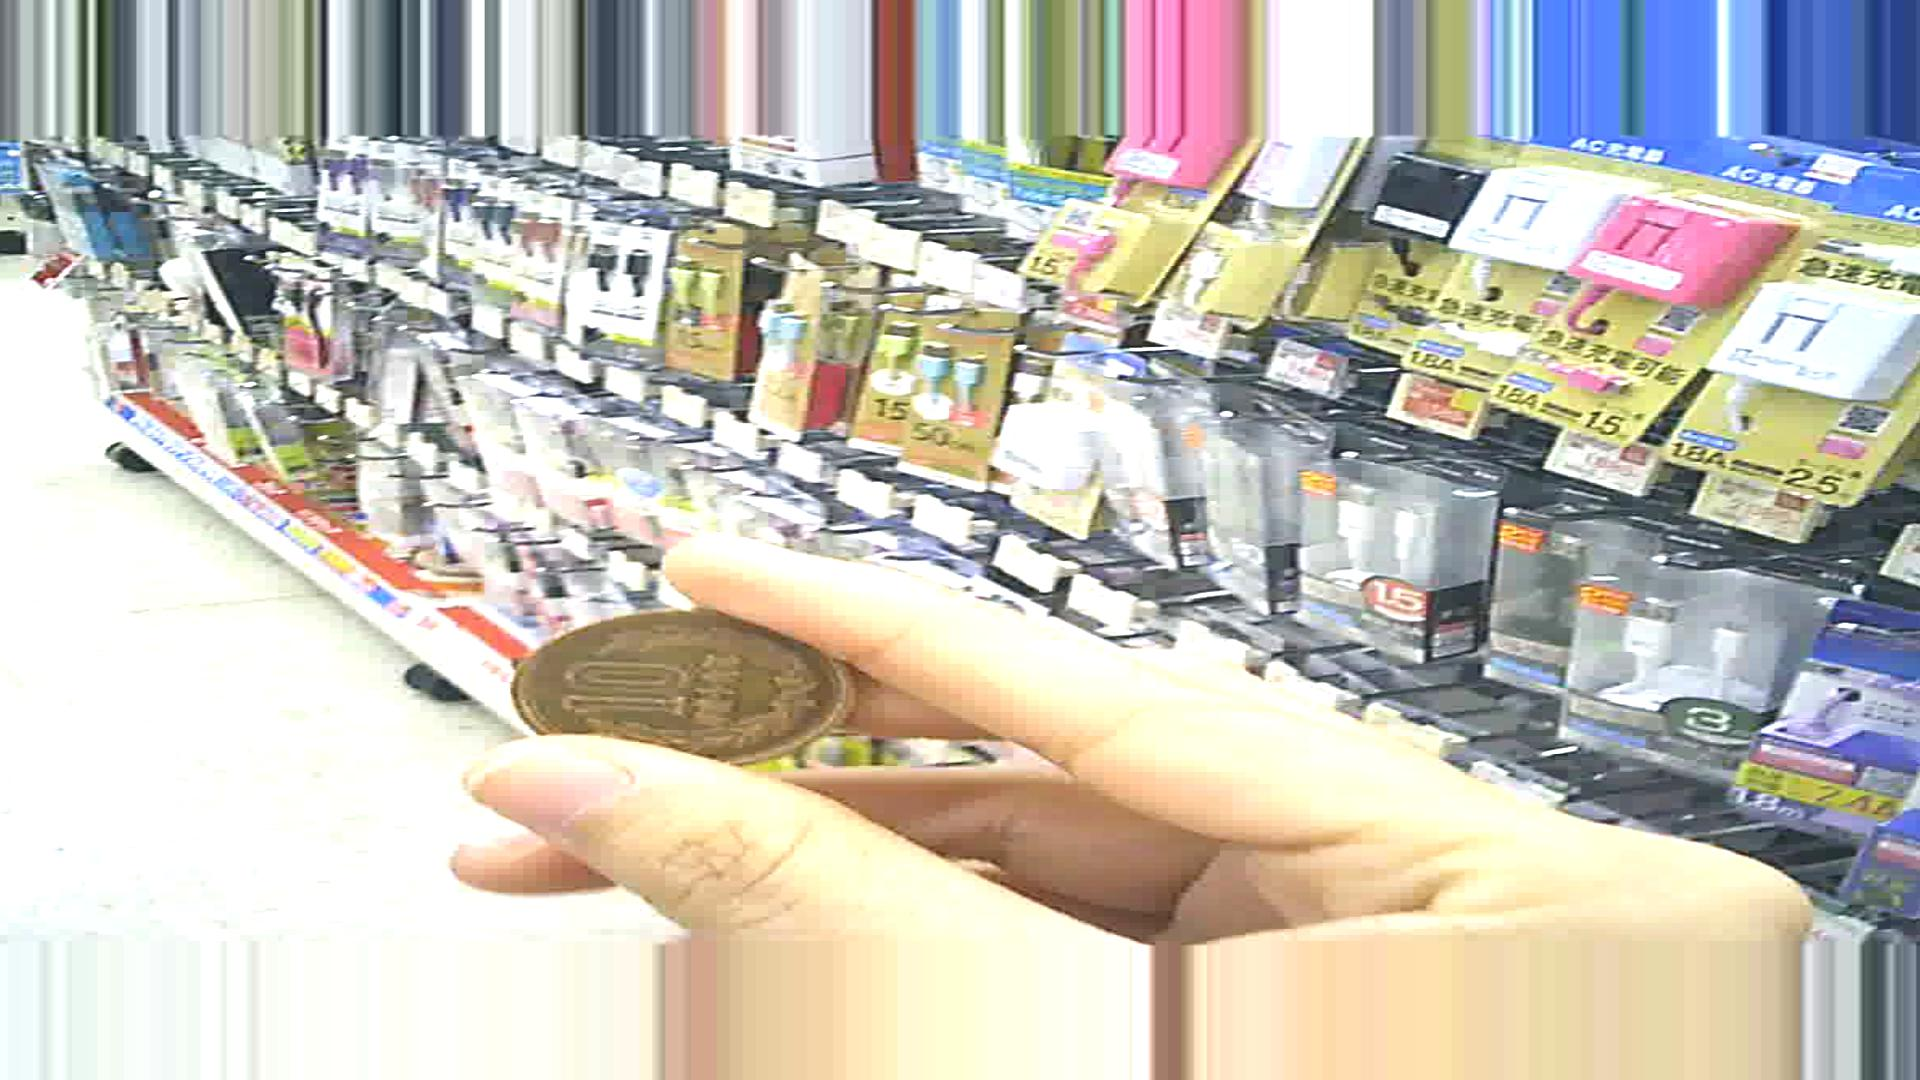10 Yen: (501, 612, 855, 767)
